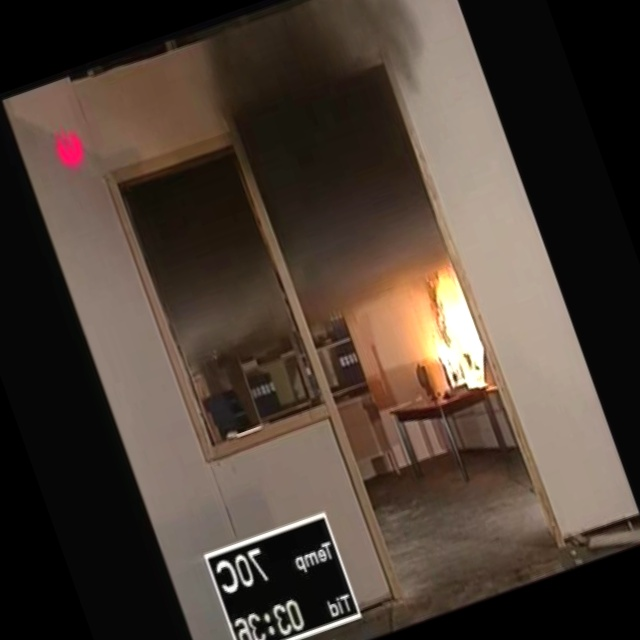fire: (390, 252, 505, 417)
